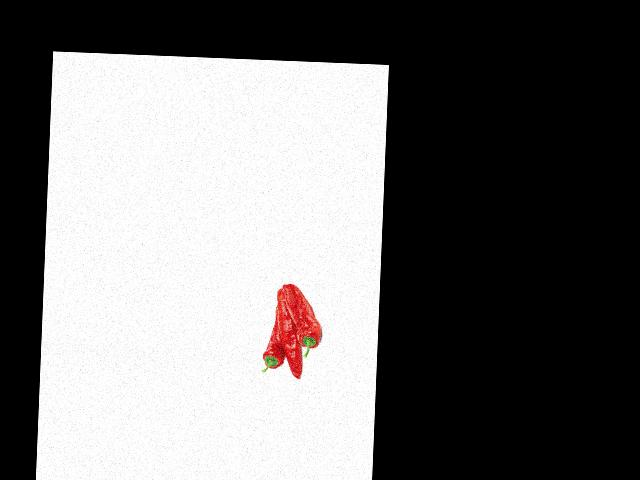bell_pepper: (288, 282, 325, 360)
